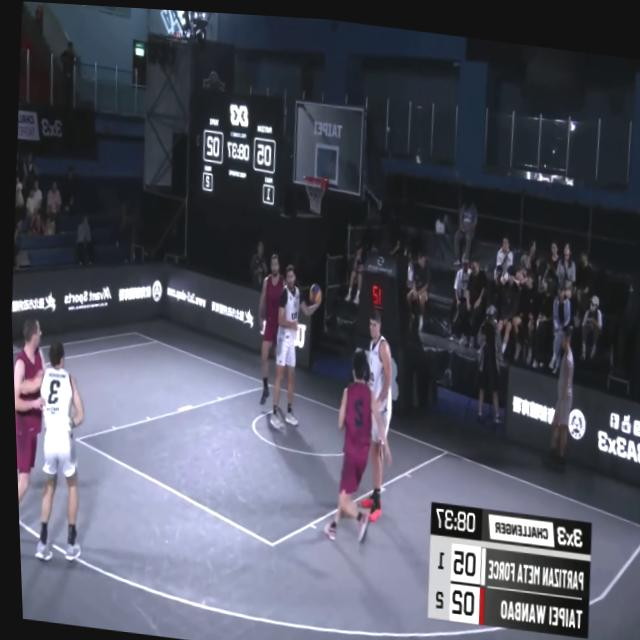ball: (303, 272, 321, 305)
hoop: (297, 166, 329, 216)
player: (310, 341, 399, 546), (25, 332, 94, 570), (344, 299, 402, 520), (9, 312, 55, 566), (261, 258, 326, 433), (249, 245, 296, 411)
